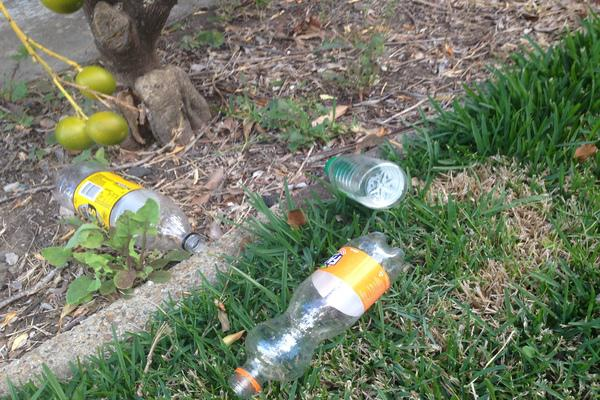Plastic Bottle: (228, 231, 405, 400), (54, 163, 203, 255), (324, 153, 407, 212)
